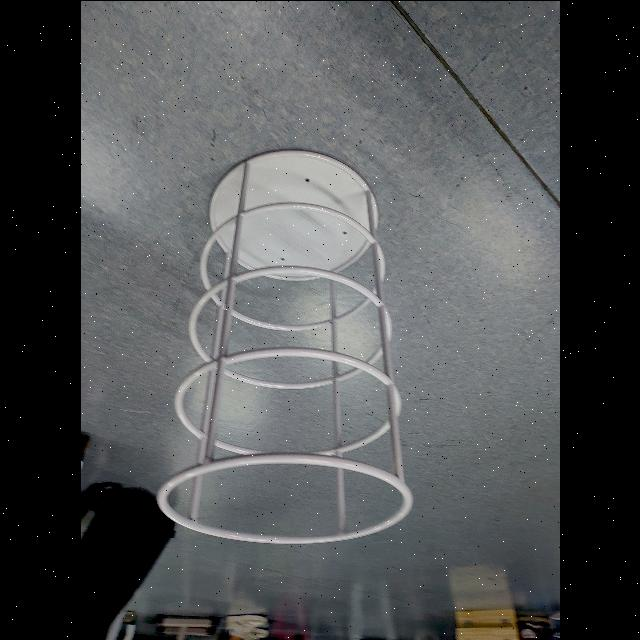S: (150, 142, 418, 548)
